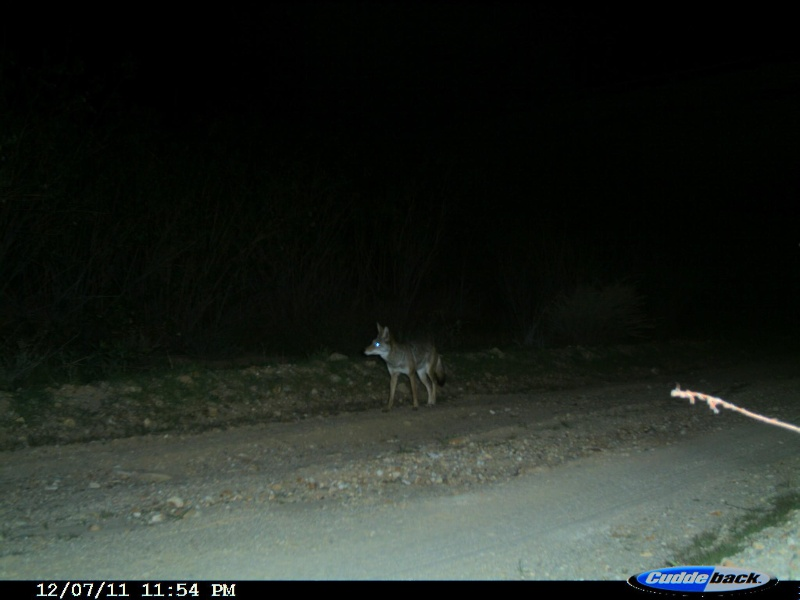coyote: (361, 321, 449, 416)
